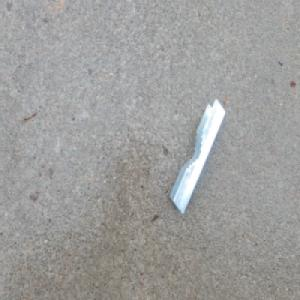ClampPart: (169, 97, 226, 217)
